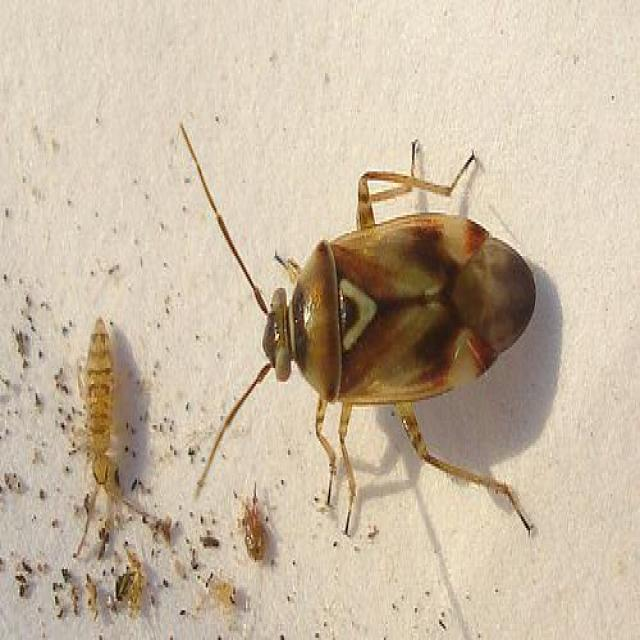Miridae-Adult-: (159, 92, 546, 550)
